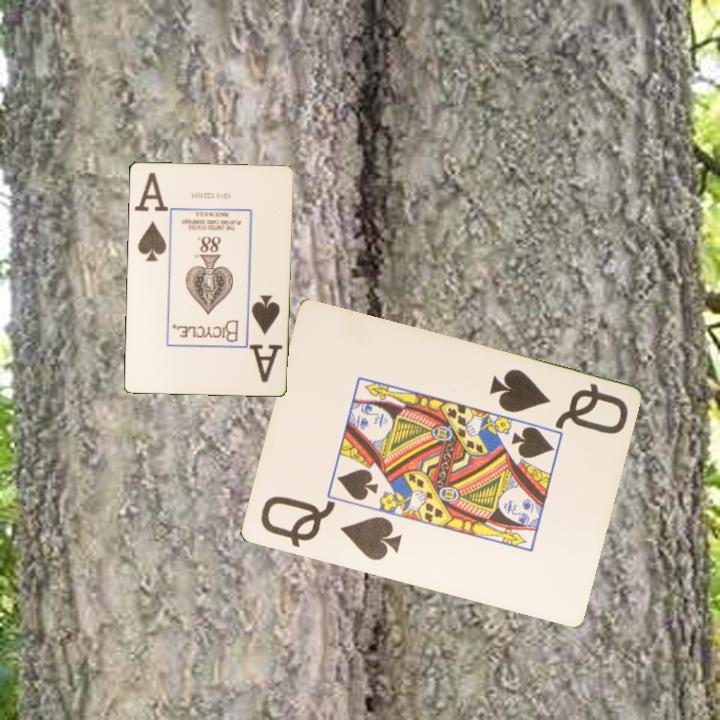As: (246, 291, 285, 385), (134, 177, 169, 264)
Qs: (485, 365, 631, 438), (256, 492, 404, 564)
